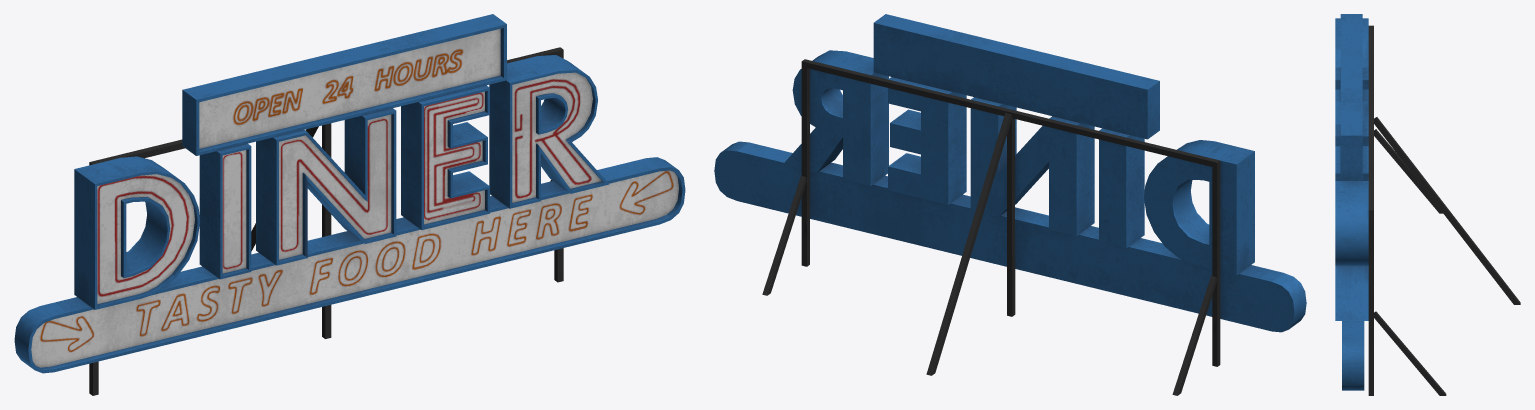
File: Signboard.FBX
The picture shows the model from 3 angles, left to right: view 1: azimuth 30°, elevation 25°; view 2: azimuth 150°, elevation 25°; view 3: azimuth 270°, elevation 25°; orthographic projection. The views are drawn at different scales.
Visible parts, largest first — view 1: Signboard; view 2: Signboard; view 3: Signboard.
Boxes of the visible parts, x1,y1,x2,y2 form: Signboard: [14, 14, 685, 395]; Signboard: [714, 14, 1306, 395]; Signboard: [1335, 14, 1520, 395].
Size of the model in its own units: 550 by 230 by 167.
